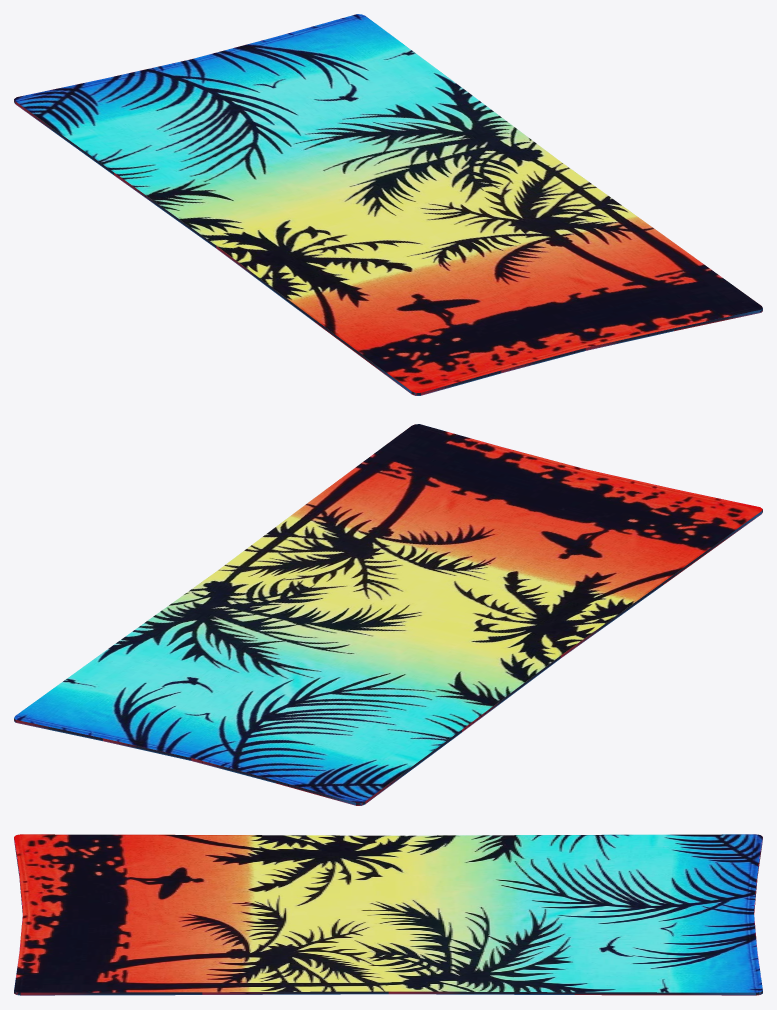
File: Beach Towels.fbx
3 views of the same model, one above another, from view 1: azimuth 30°, elevation 25°; view 2: azimuth 150°, elevation 25°; view 3: azimuth 270°, elevation 25° (orthographic). The views are drawn at different scales.
Parts seen in each view (by area): view 1: Cube; view 2: Cube; view 3: Cube.
Boxes of the visible parts, left/top/right/bottom form: Cube: left=14, top=14, right=762, bottom=395; Cube: left=14, top=424, right=762, bottom=805; Cube: left=14, top=834, right=762, bottom=995.
Bounding box in the file's own units: 299 × 2.49 × 597.
